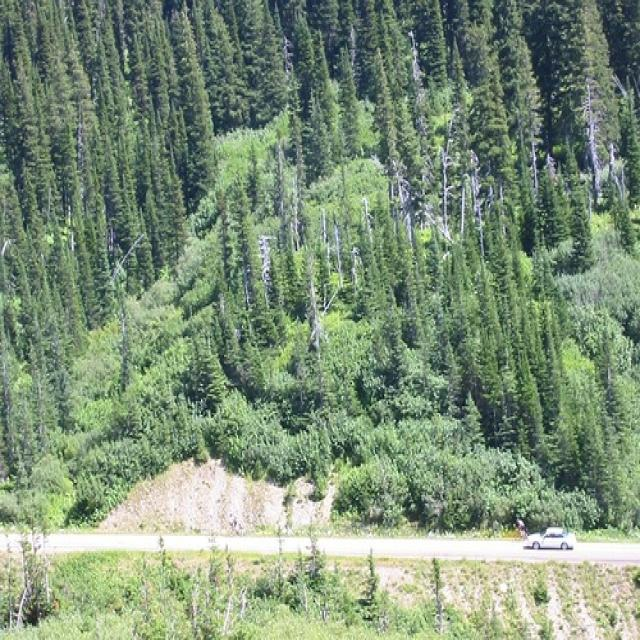car: (521, 524, 579, 555)
